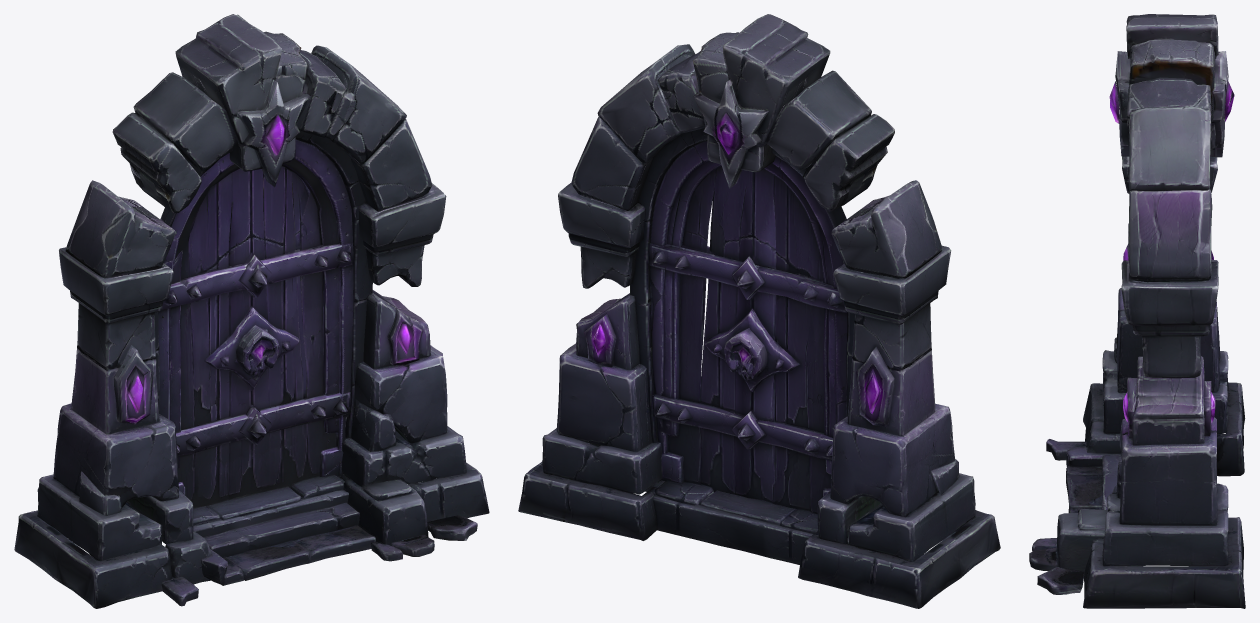
File: door_standard_damaged.glb
3 views of the same model, side by side, from view 1: azimuth 30°, elevation 25°; view 2: azimuth 150°, elevation 25°; view 3: azimuth 270°, elevation 25° (orthographic).
Bounding box in the file's own units: 0.8379 × 1 × 0.3984.
Materials: 1 (1 with a texture image).
